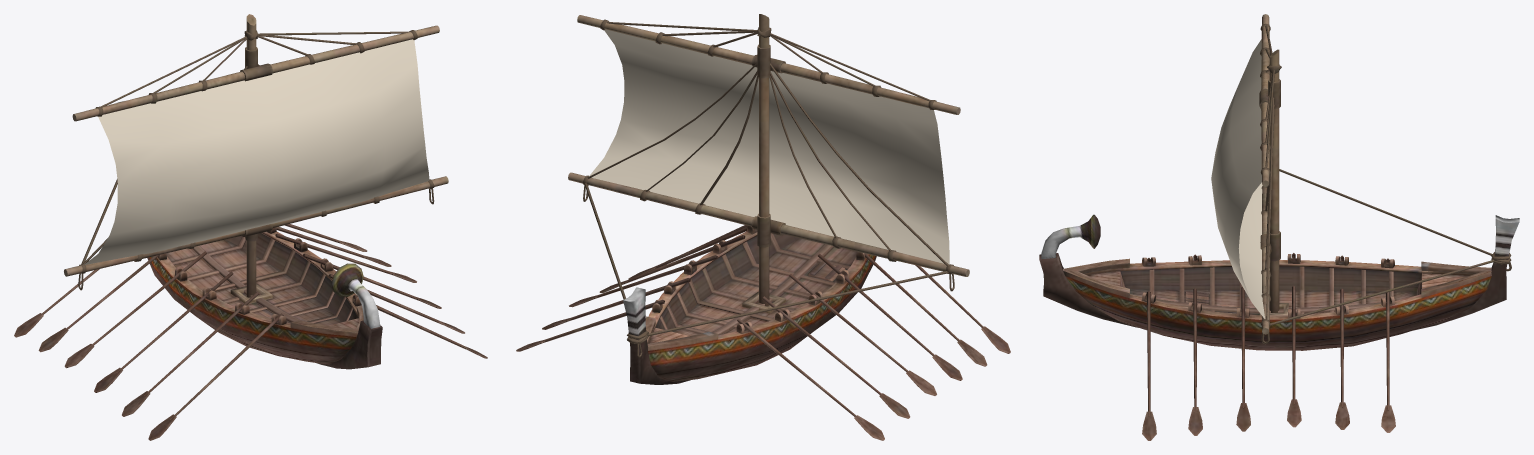
File: 222-kebenit.glb
3 views of the same model, side by side, from view 1: azimuth 30°, elevation 25°; view 2: azimuth 150°, elevation 25°; view 3: azimuth 270°, elevation 25° (orthographic). The views are drawn at different scales.
Bounding box in the file's own units: 6.19 × 5.2 × 7.2.
Materials: 2 (1 with a texture image).
